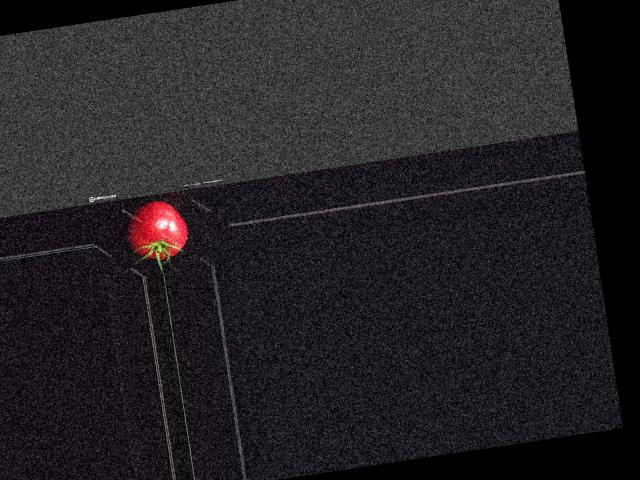tomato: (123, 197, 191, 263)
